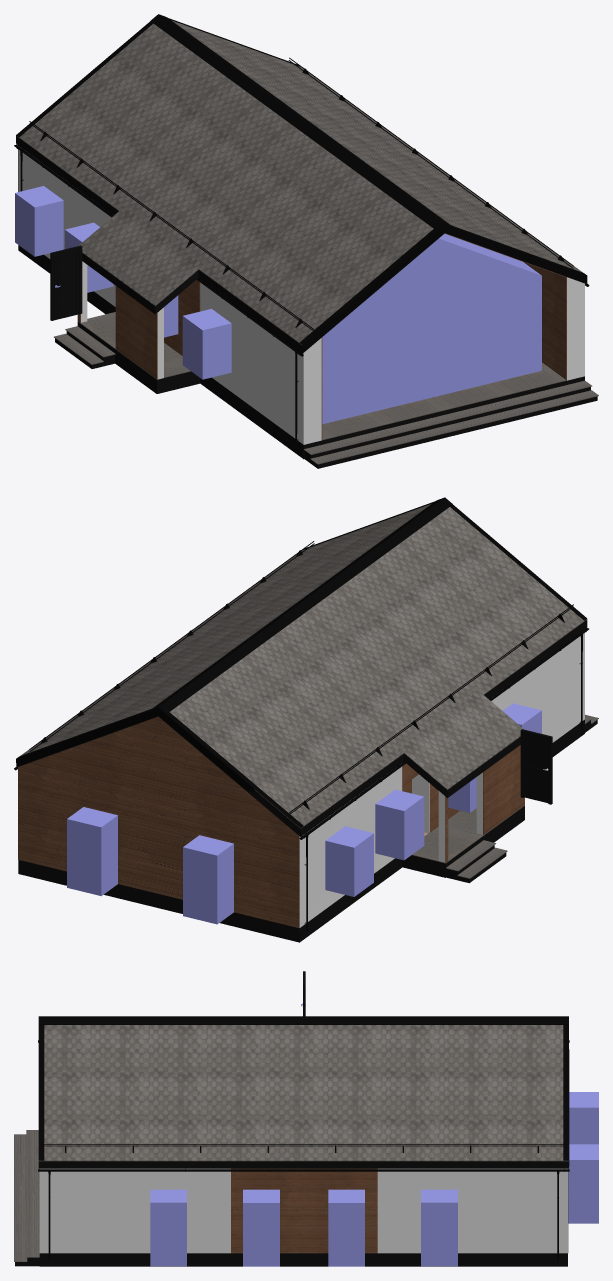
File: modern_house_9277d3ad.fbx
3 renders of one model, top to bottom at view 1: azimuth 30°, elevation 25°; view 2: azimuth 150°, elevation 25°; view 3: azimuth 270°, elevation 25°, orthographic. The views are drawn at different scales.
Parts seen in each view (by area): view 1: modern_house_9277d3ad; view 2: modern_house_9277d3ad; view 3: modern_house_9277d3ad.
Boxes of the visible parts, bbox=[...] form: modern_house_9277d3ad: bbox=[14, 14, 598, 468]; modern_house_9277d3ad: bbox=[14, 497, 598, 942]; modern_house_9277d3ad: bbox=[14, 971, 598, 1266].
Size of the model in its own units: 13.76 by 6.3 by 17.9.
10 materials, 5 textured.
